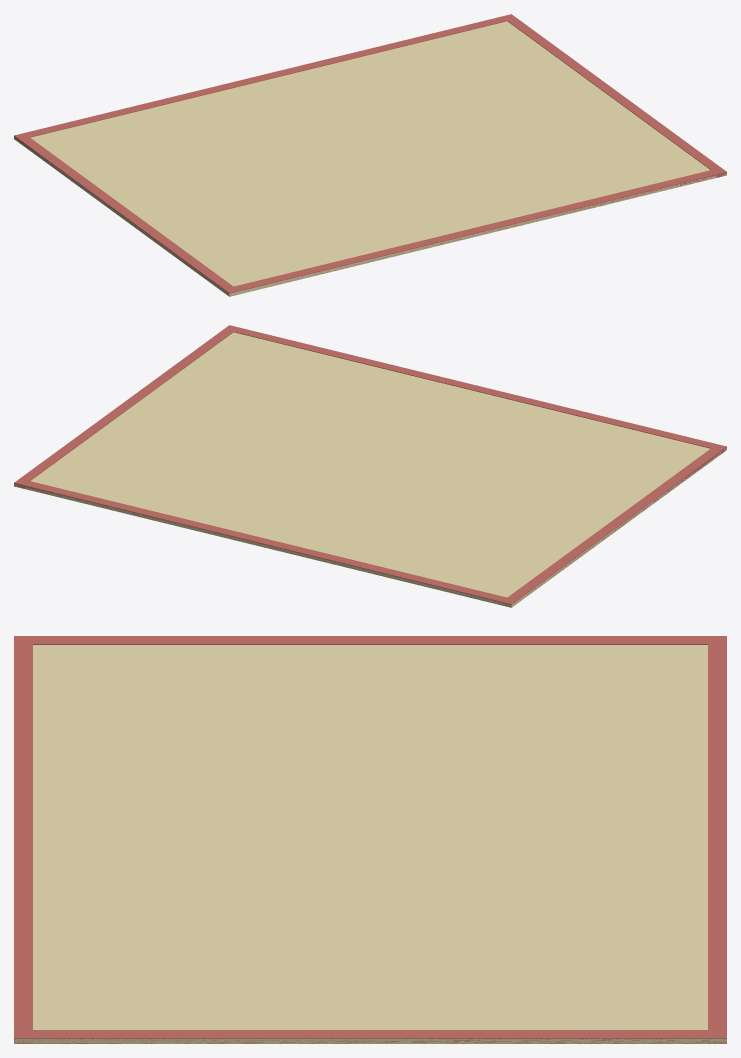
Rendered from Tikar_Mat.fbx.
3 renders of one model, top to bottom at view 1: azimuth 30°, elevation 25°; view 2: azimuth 150°, elevation 25°; view 3: azimuth 270°, elevation 25°, orthographic. The views are drawn at different scales.
Parts seen in each view (by area): view 1: Tikar_Mat; view 2: Tikar_Mat; view 3: Tikar_Mat.
Boxes of the visible parts, x1=… form: Tikar_Mat: x1=14, y1=14, x2=726, y2=296; Tikar_Mat: x1=14, y1=325, x2=726, y2=607; Tikar_Mat: x1=14, y1=636, x2=726, y2=1043.
Bounding box in the file's own units: 2 × 0.014 × 1.5.
